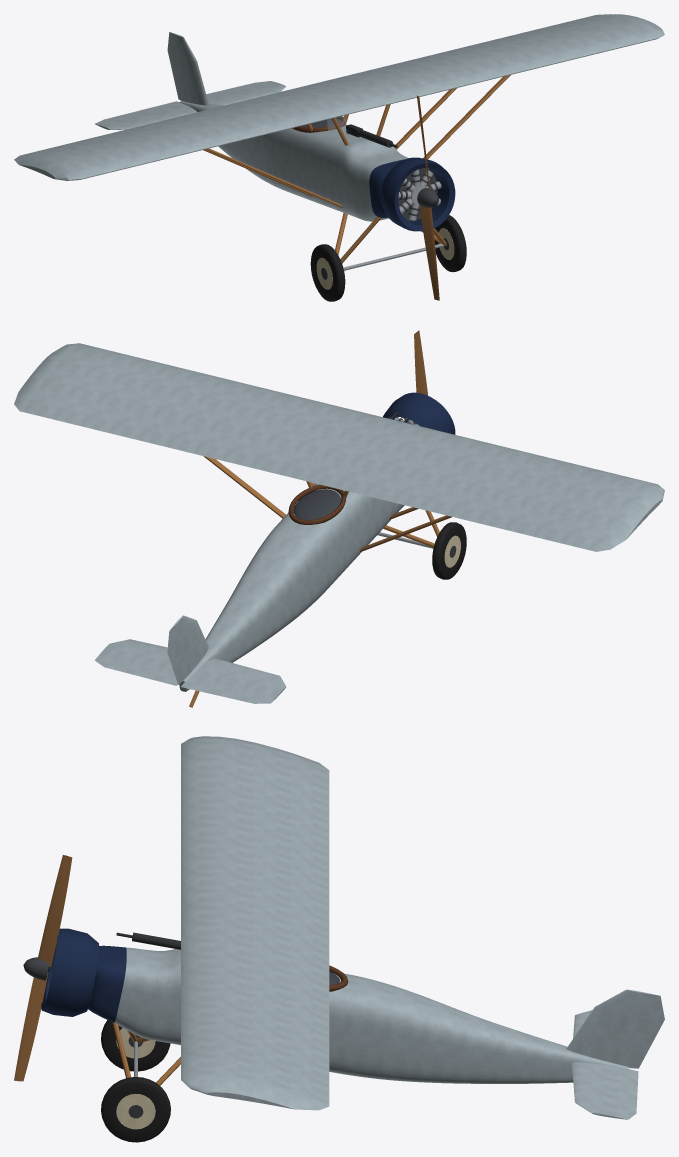
File: parasol-monoplane.glb
3 views of the same model, one above another, from view 1: azimuth 30°, elevation 25°; view 2: azimuth 150°, elevation 25°; view 3: azimuth 270°, elevation 25° (orthographic). The views are drawn at different scales.
Parts seen in each view (by area): view 1: Parasol_Monoplane, Propeller, Wheel_R, Wheel_L; view 2: Parasol_Monoplane, Wheel_R, Propeller; view 3: Parasol_Monoplane, Wheel_L, Propeller, Wheel_R.
Part boxes in pixels (x1,y1,x2,y2): Parasol_Monoplane: (14,14,664,270); Propeller: (398,95,441,300); Wheel_R: (310,244,345,301); Wheel_L: (434,215,466,272); Parasol_Monoplane: (14,343,664,707); Wheel_R: (432,522,466,579); Propeller: (394,330,428,425); Parasol_Monoplane: (41,736,664,1119); Wheel_L: (101,1077,170,1142); Propeller: (14,855,72,1081); Wheel_R: (101,1020,170,1071).
Bounding box in the file's own units: 8.6 × 2.84 × 6.68.
Materials: 12 (2 with a texture image).
